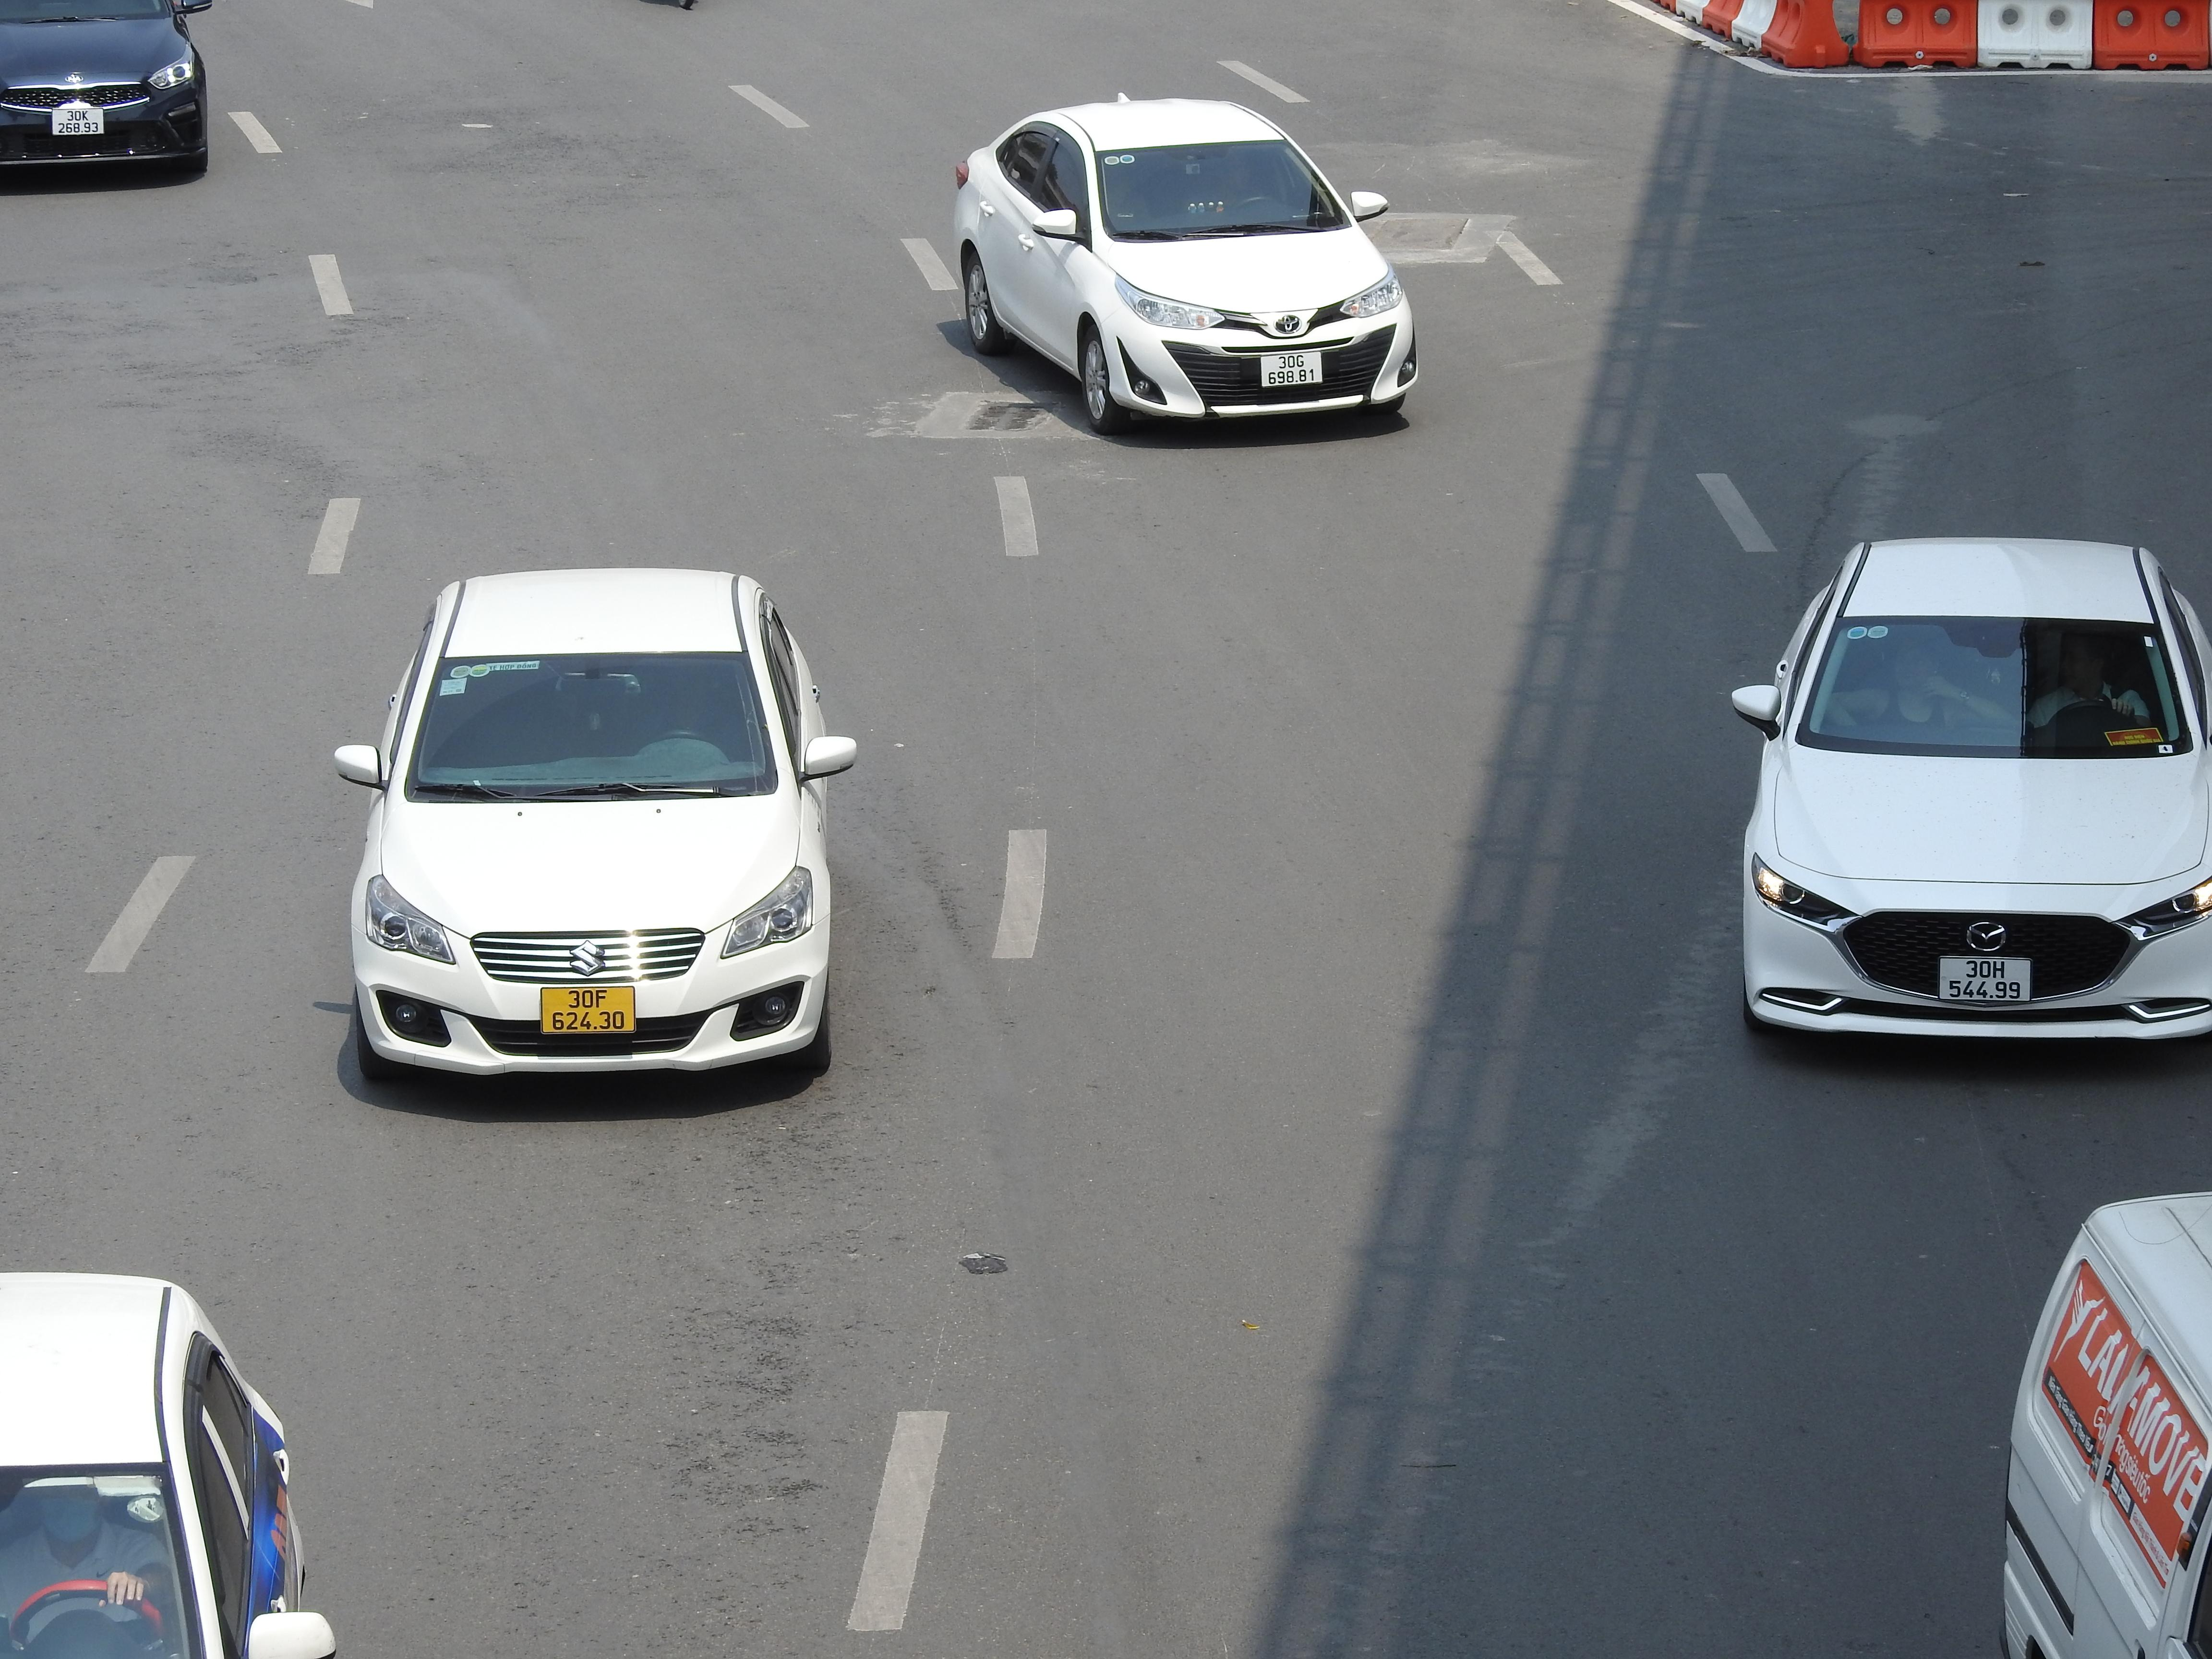BSV: (540, 986, 634, 1035), (1939, 957, 2031, 1002), (1263, 350, 1320, 385), (51, 108, 103, 136)
car: (333, 565, 859, 1089), (1728, 535, 2212, 1054), (953, 98, 1421, 437), (0, 0, 212, 190)
